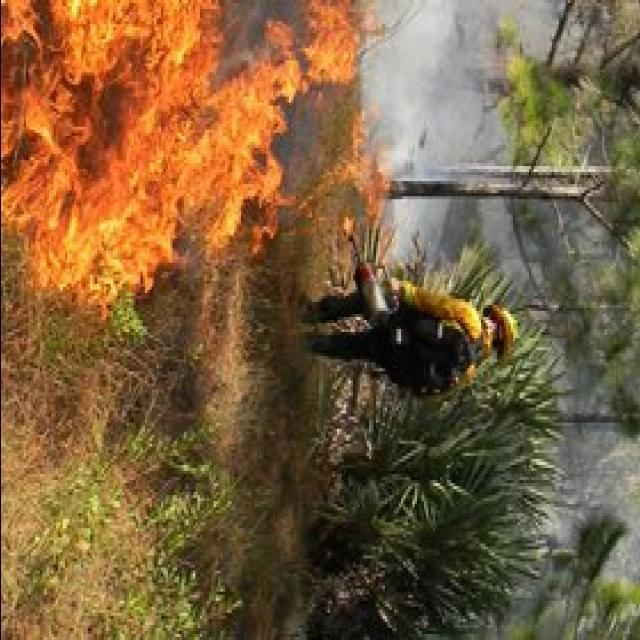Fire: (4, 0, 390, 290)
